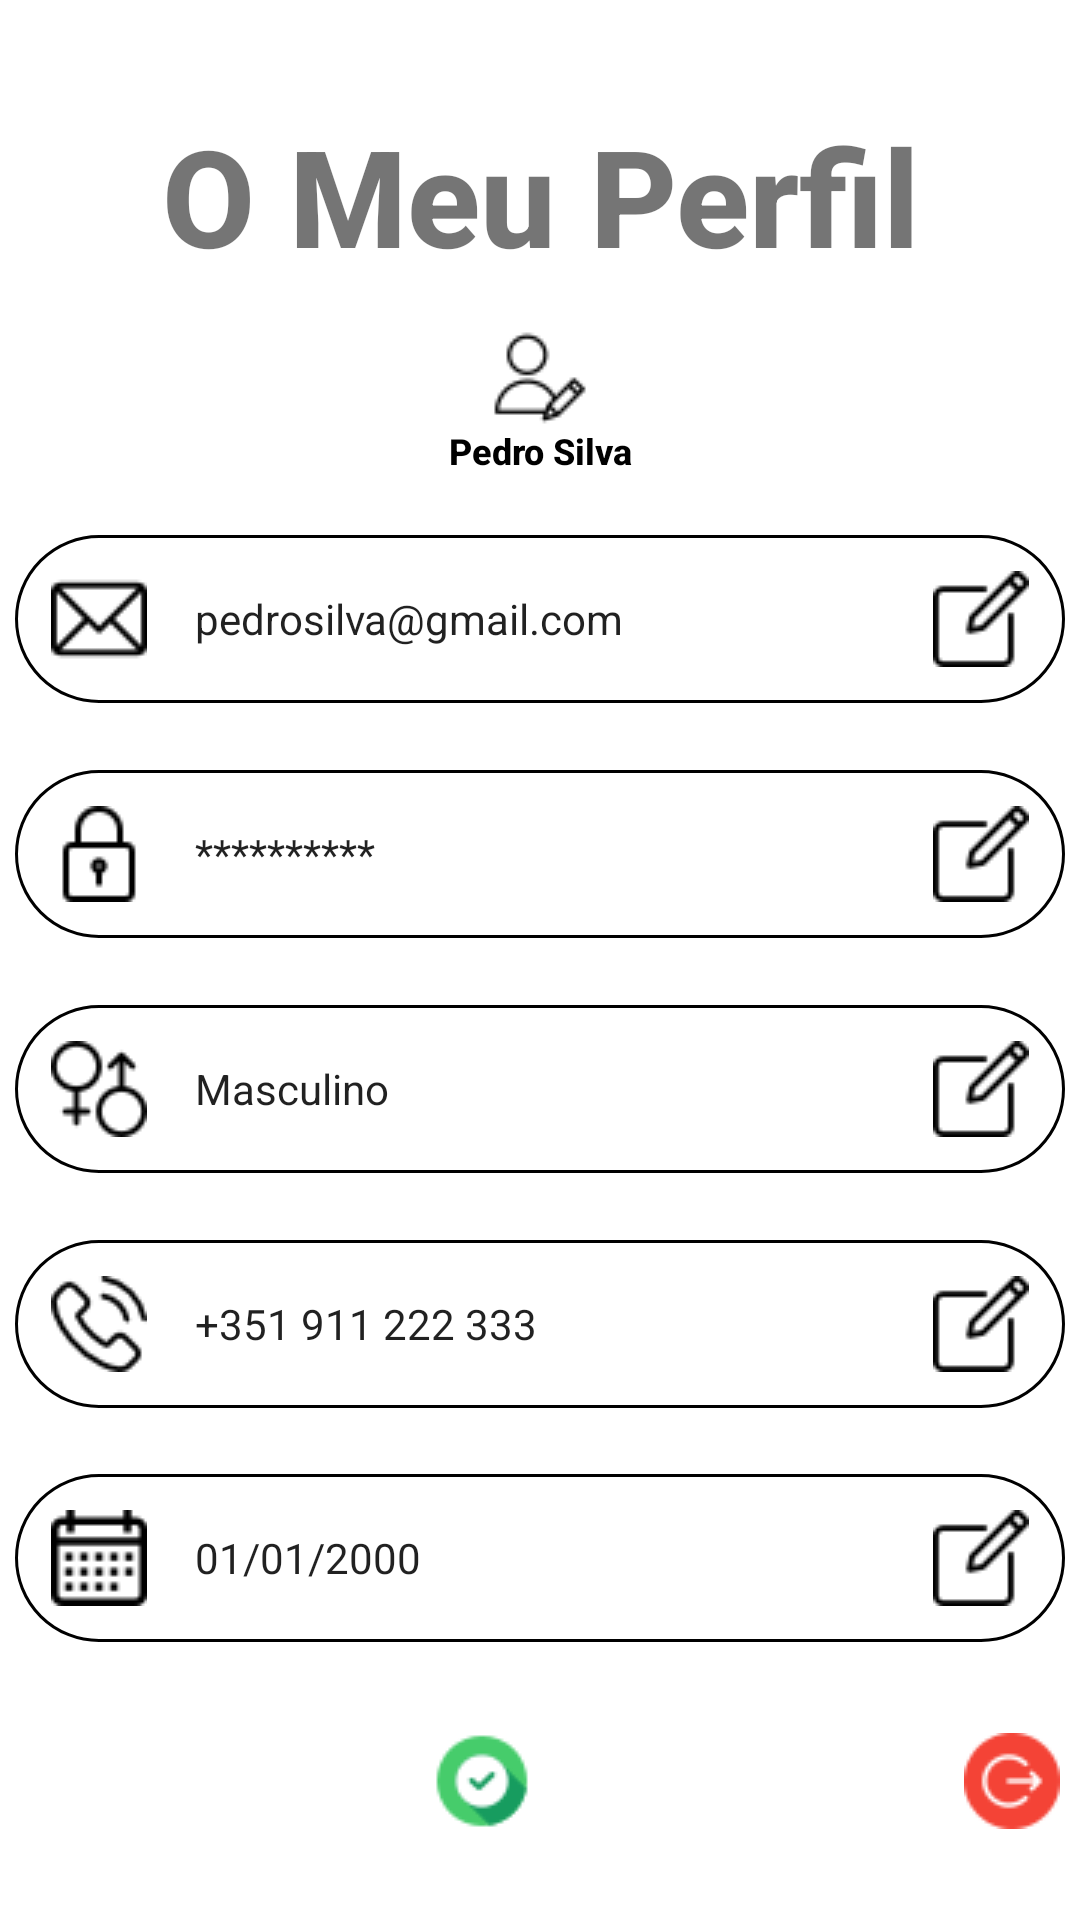

Icons on this 1080 × 1920 Android screen, each with the point to tap as point (x, y):
profile edit: point (540, 377)
